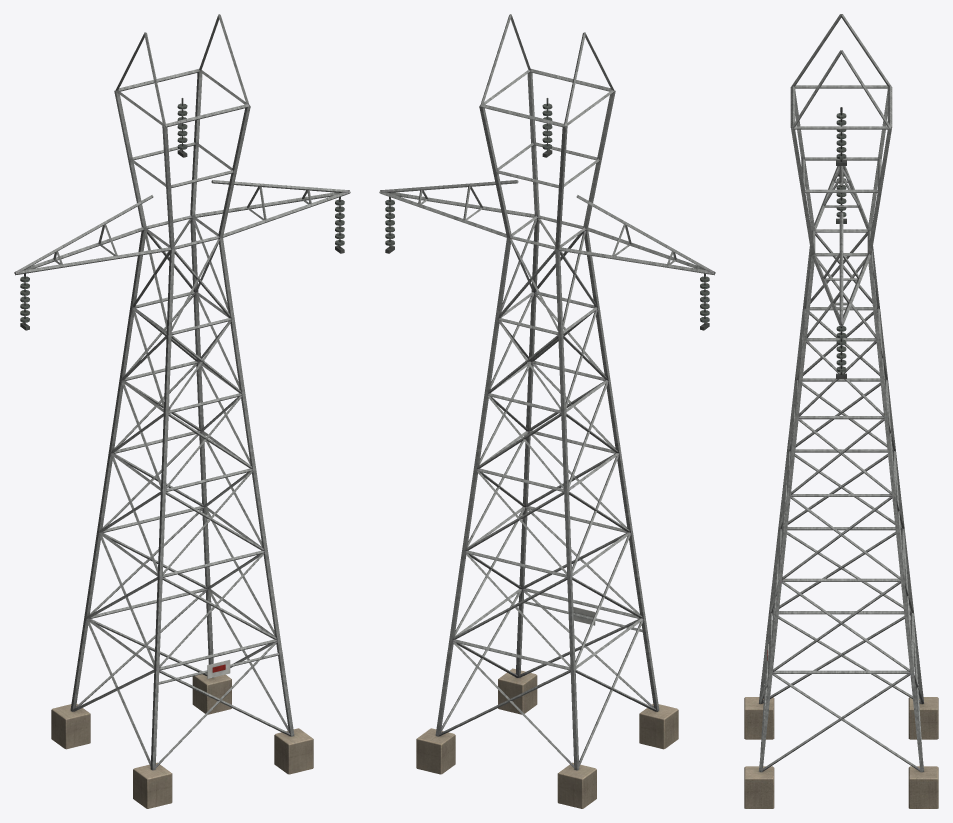
File: pylon.glb
3 views of the same model, side by side, from view 1: azimuth 30°, elevation 25°; view 2: azimuth 150°, elevation 25°; view 3: azimuth 270°, elevation 25° (orthographic).
Parts seen in each view (by area): view 1: Pylon; view 2: Pylon; view 3: Pylon.
Part boxes in pixels (x1,y1,x2,y2): Pylon: [14, 14, 350, 808]; Pylon: [379, 14, 715, 808]; Pylon: [744, 14, 938, 808].
Size of the model in its own units: 10.43 by 21.72 by 5.2.
1 material, 1 textured.
